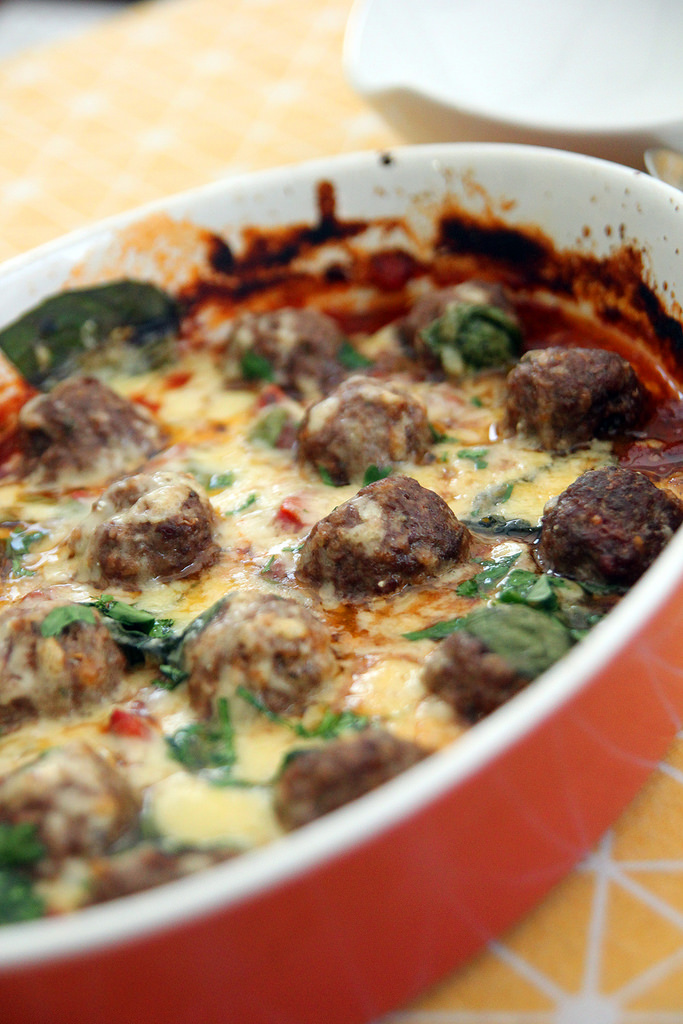meatballs: (296, 474, 489, 601), (528, 446, 683, 595), (174, 585, 346, 716), (421, 593, 580, 723), (286, 373, 443, 491), (74, 476, 227, 593), (496, 345, 650, 449), (16, 373, 168, 474)
